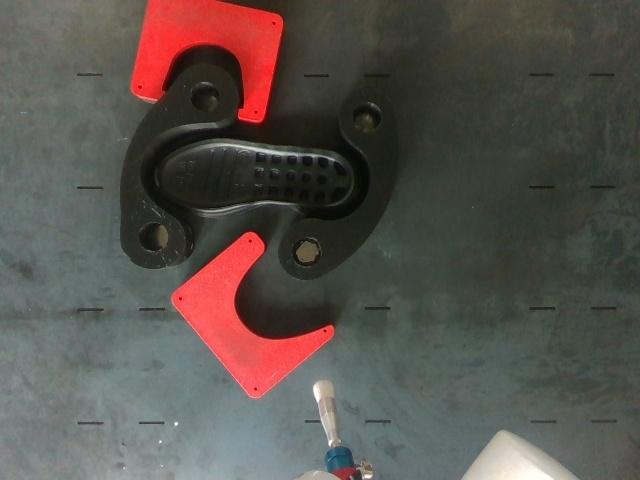shoes: (157, 143, 350, 210)
